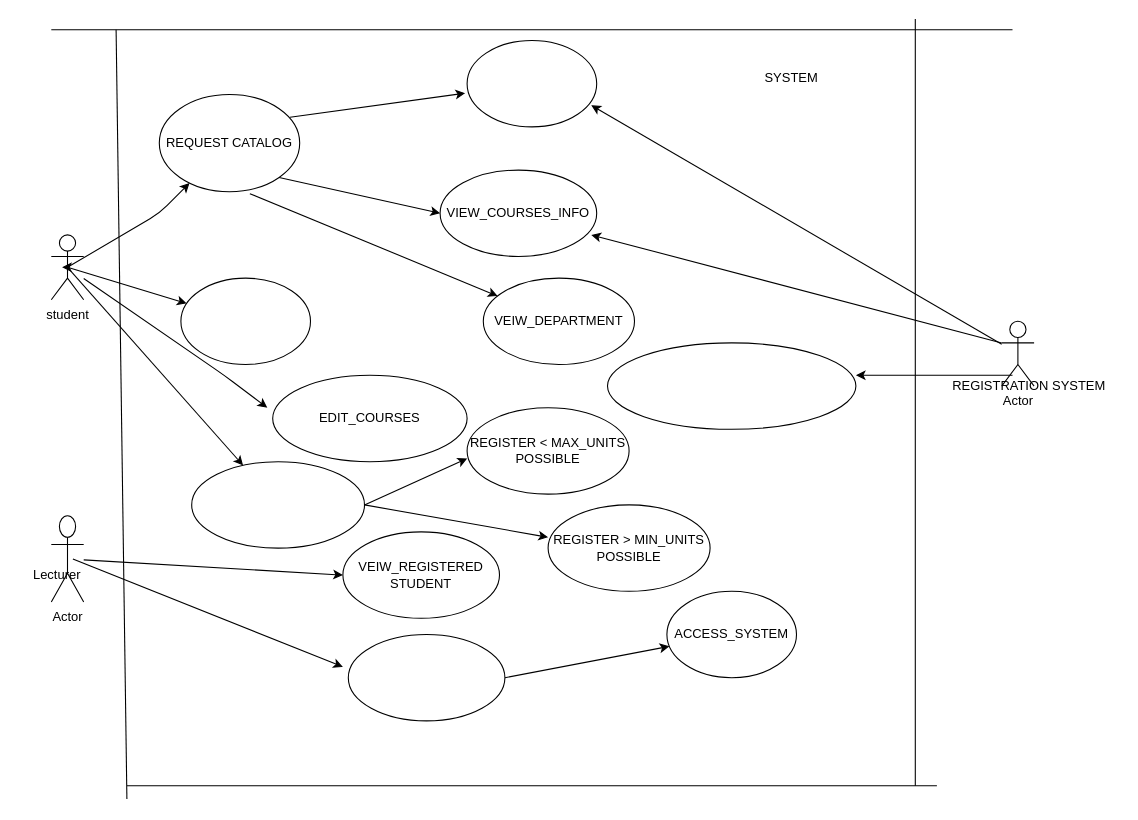
This 1138x820 diagram has some shape labels left out. Each missing label, with the centre of its shape:
"PAY BILLS" belongs at (245,320).
"REGISTER_COURSES" belongs at (277,504).
"SENDS INFORMATION TO BILLING SYSTEM" belongs at (731,385).
"UPLOAD_DETAILS" belongs at (426,677).
"VIEW_COURSES" belongs at (531,83).
